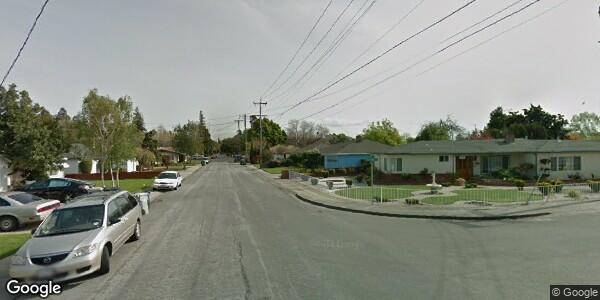Wood_Pole: (249, 98, 273, 172)
